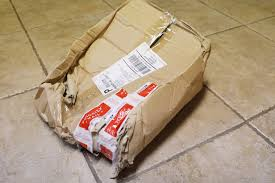damaged package: (33, 0, 211, 177)
